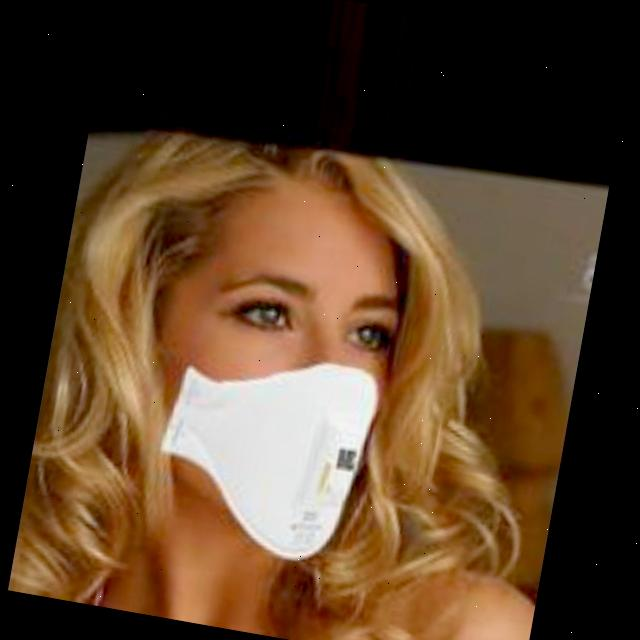suspicion: (102, 124, 449, 586)
